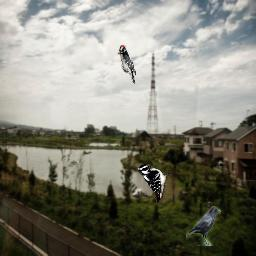Crow: (186, 206, 221, 246)
Woodpecker: (138, 164, 172, 204), (117, 45, 136, 85)
